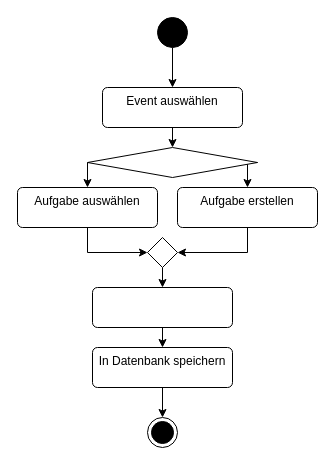
Some shapes in this 335 by 465 pixel diagram are drawn without their labels. The centre of each missing label's shape, as x and y in pixels:
"Existiert die Aufgabe" goes at (x=172, y=162).
"Personen zuweisen" goes at (x=162, y=307).
